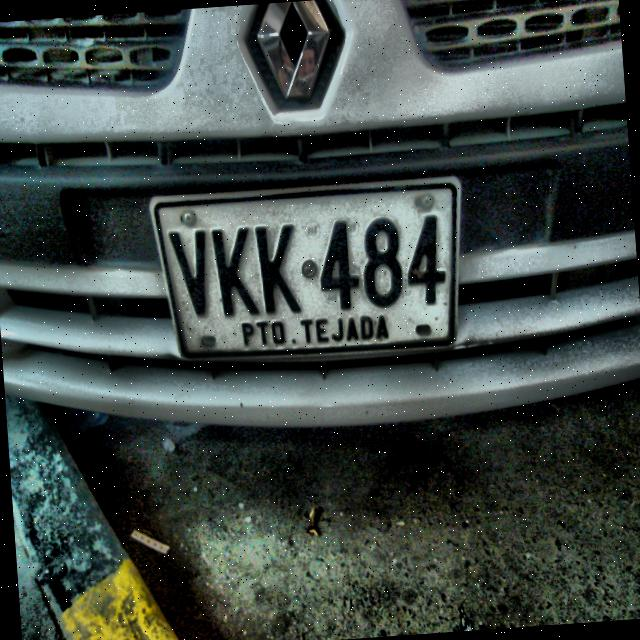plate: (150, 176, 461, 362)
